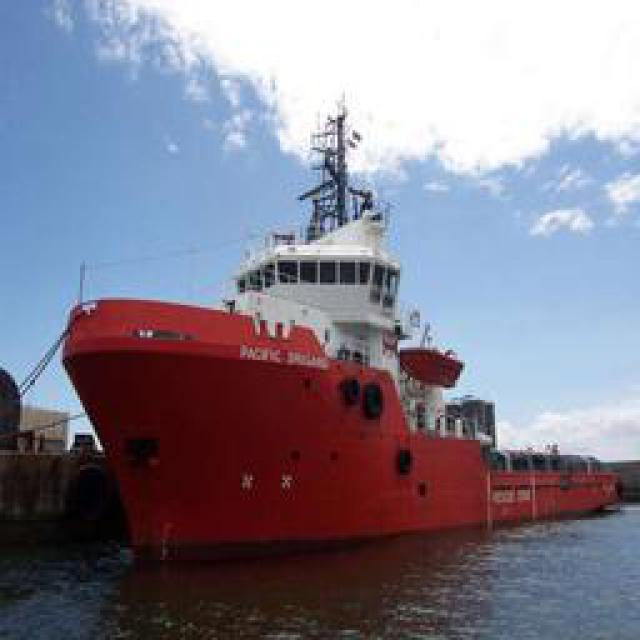Ship: (57, 140, 620, 548)
